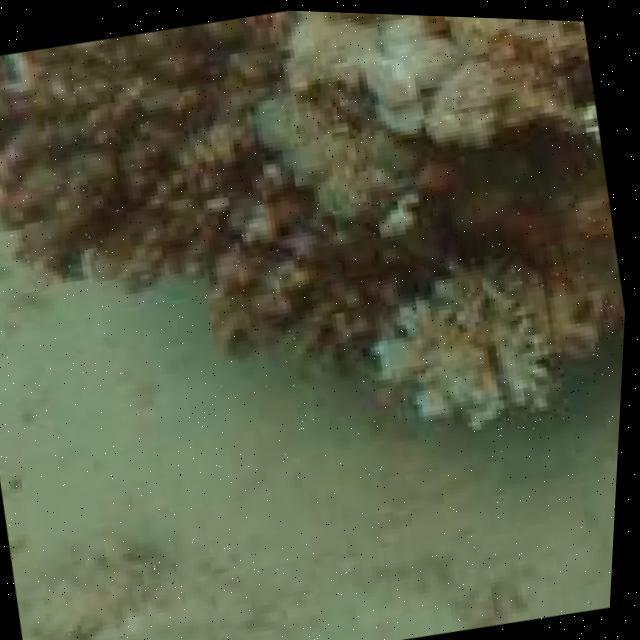Bleached Coral: (247, 0, 553, 231), (355, 237, 591, 444)
